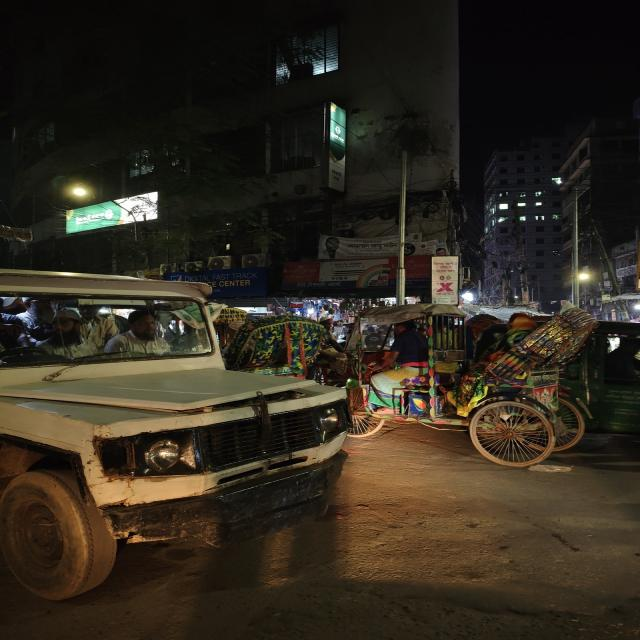human_hauler: (0, 255, 361, 574)
rickshaw: (348, 308, 606, 475)
